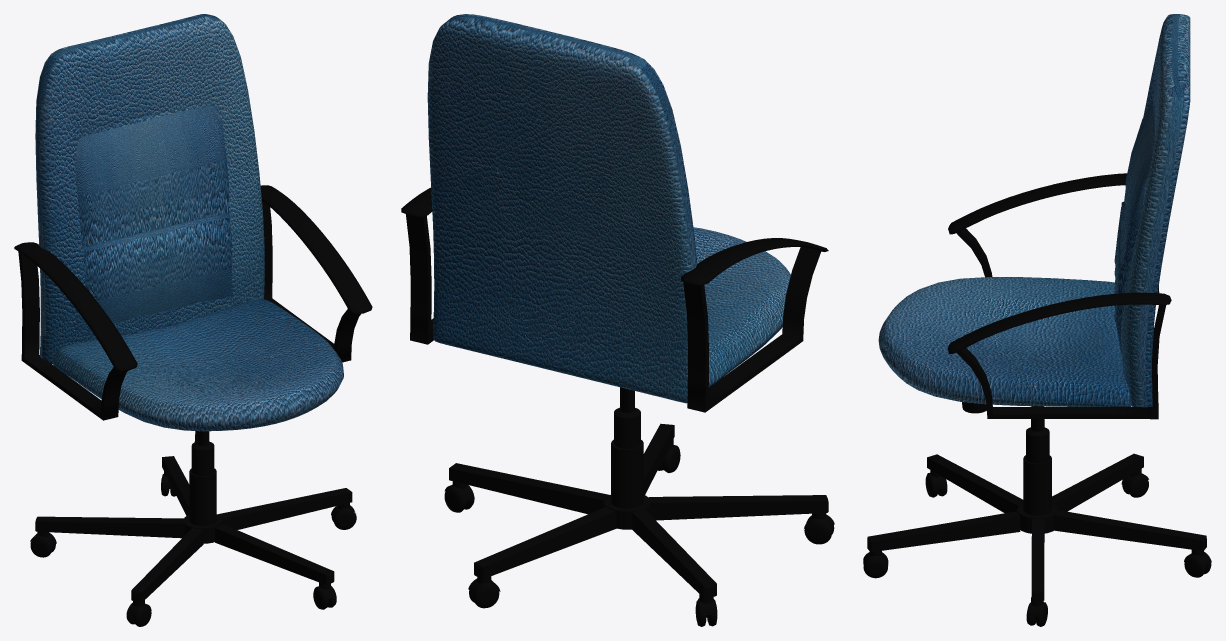
File: IKEA-Allak_Swivel_Chair-3d.FBX
The picture shows the model from 3 angles, left to right: view 1: azimuth 30°, elevation 25°; view 2: azimuth 150°, elevation 25°; view 3: azimuth 270°, elevation 25°; orthographic projection. The views are drawn at different scales.
Parts seen in each view (by area): view 1: Plane01; view 2: Plane01; view 3: Plane01.
Part boxes in pixels (x1,y1,x2,y2): Plane01: (14, 14, 372, 626); Plane01: (401, 14, 834, 626); Plane01: (863, 14, 1211, 626).
Size of the model in its own units: 0.5365 by 0.5517 by 0.8795.
2 materials, 1 textured.
